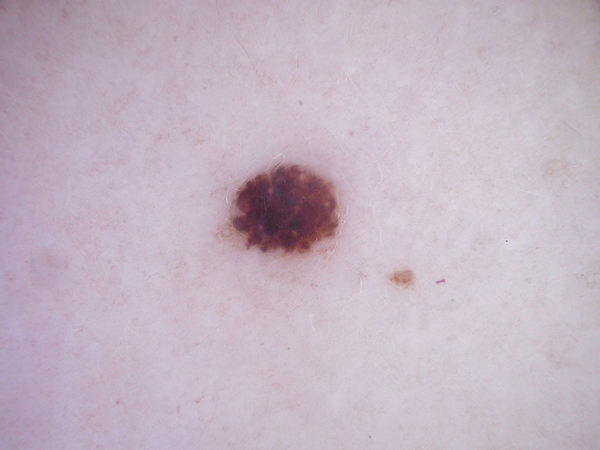Detected Lesion: (219, 155, 361, 255)
